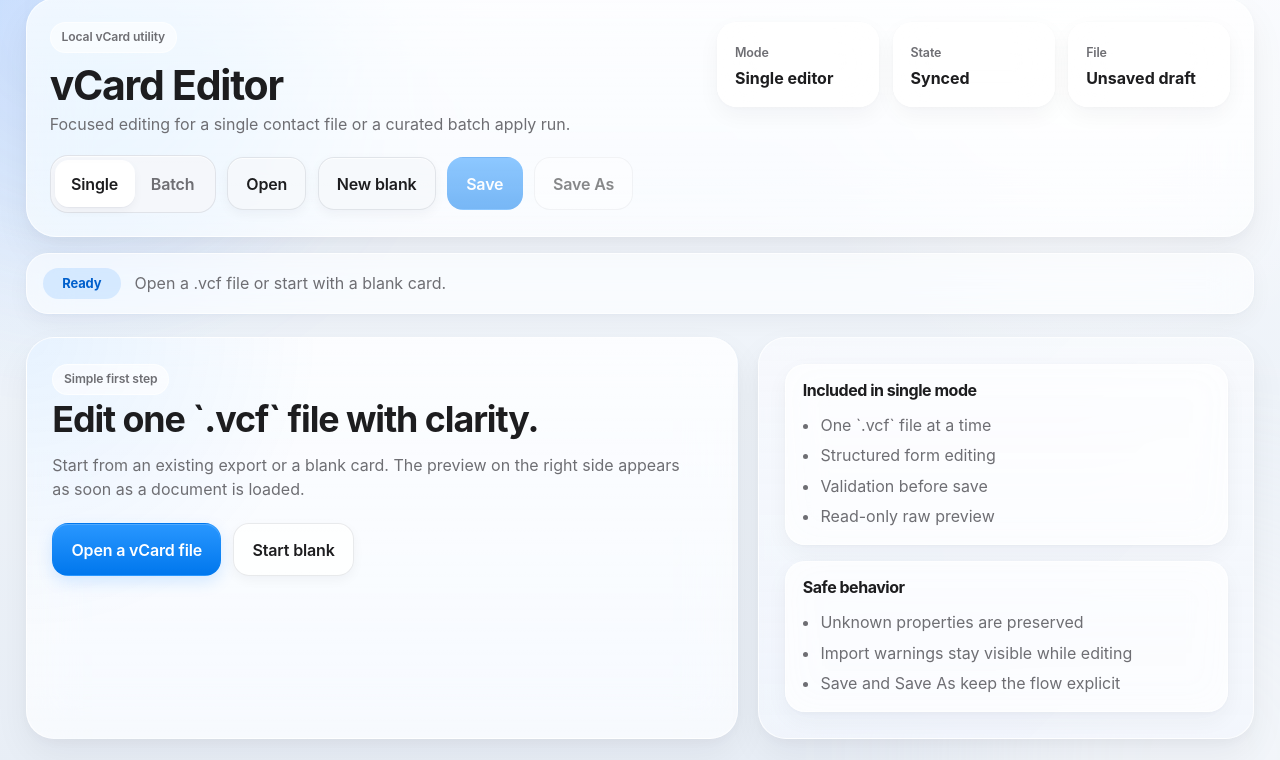
it: App › does not preview metadata-only writes for unchanged batch imports
What coordinates should you click on to do the following:
click the tab "Batch"
I would click on:
 (173, 184)
Its box is [134,160,211,207].
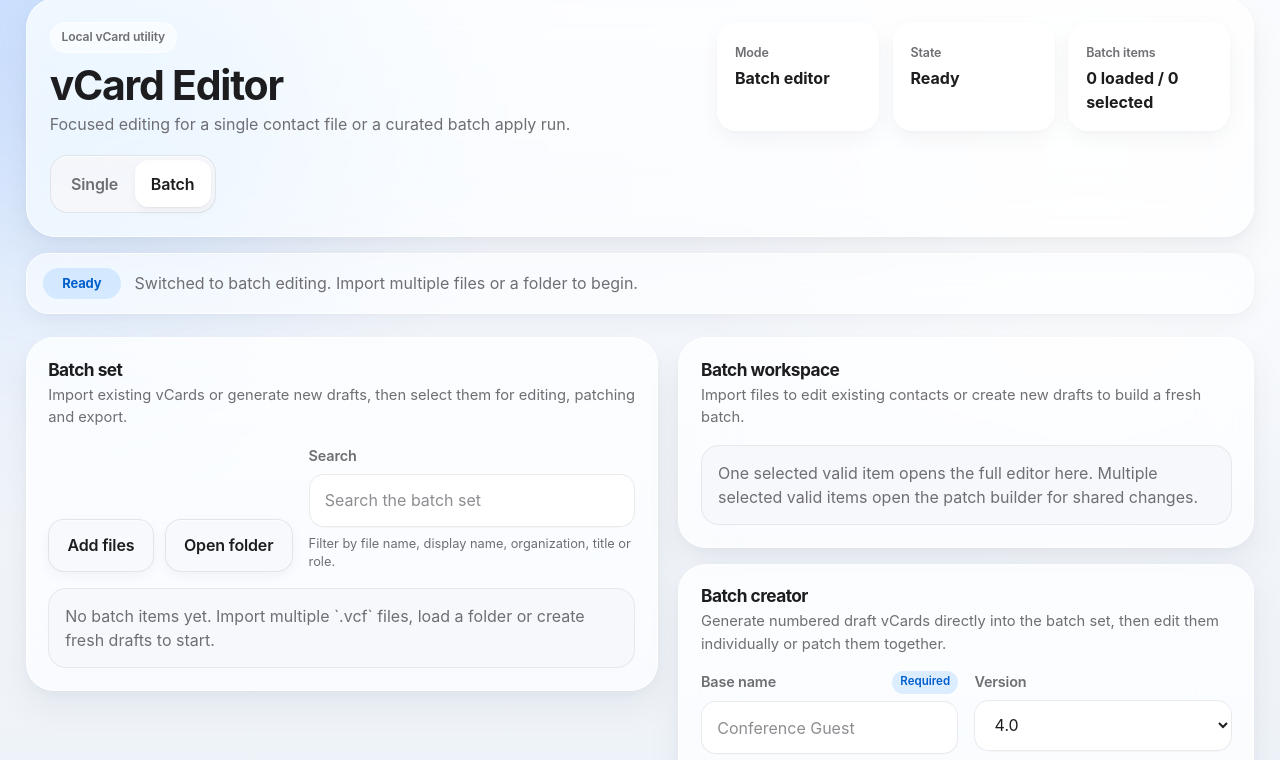
What coordinates should you click on to do the following:
click the button "Add files"
I would click on:
 (101, 545)
Its box is [48,519,154,572].
(page scrolled)
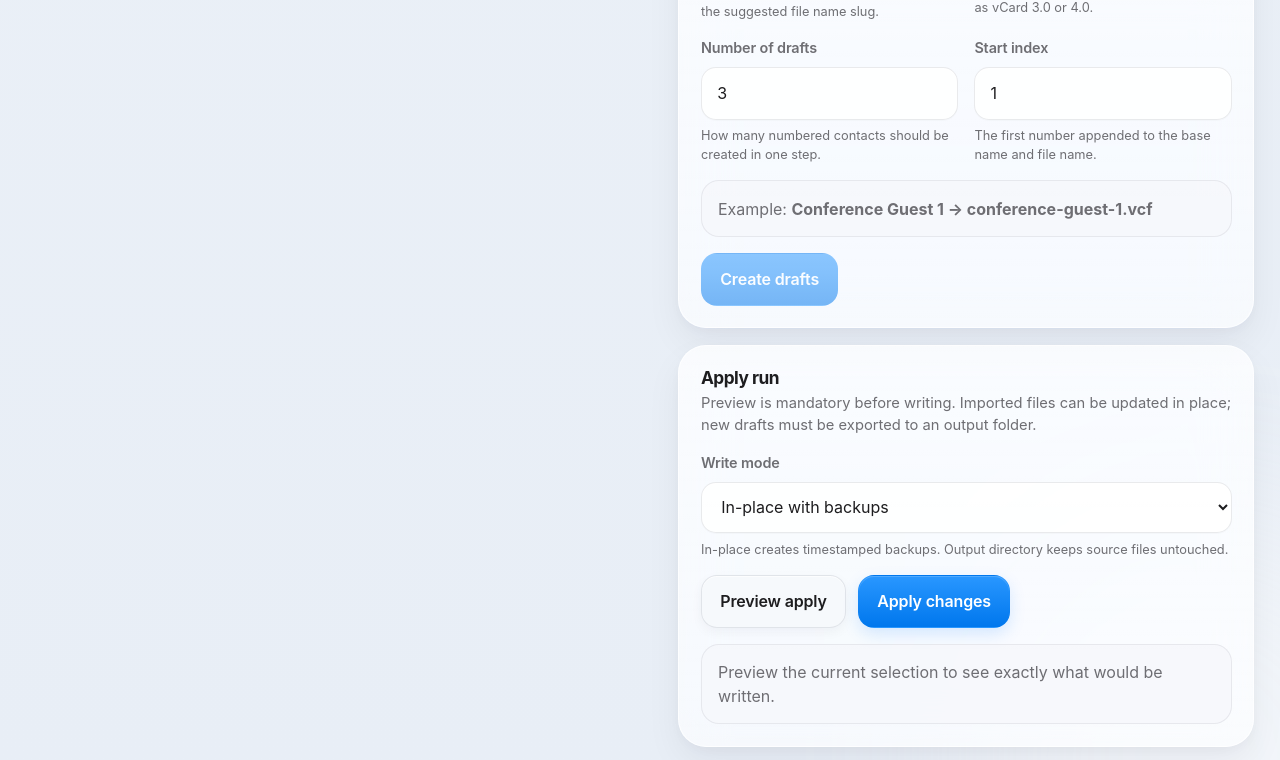
What coordinates should you click on to do the following:
click the button "Preview apply"
I would click on:
 (774, 601)
Its box is [701,575,846,628].
(page scrolled)
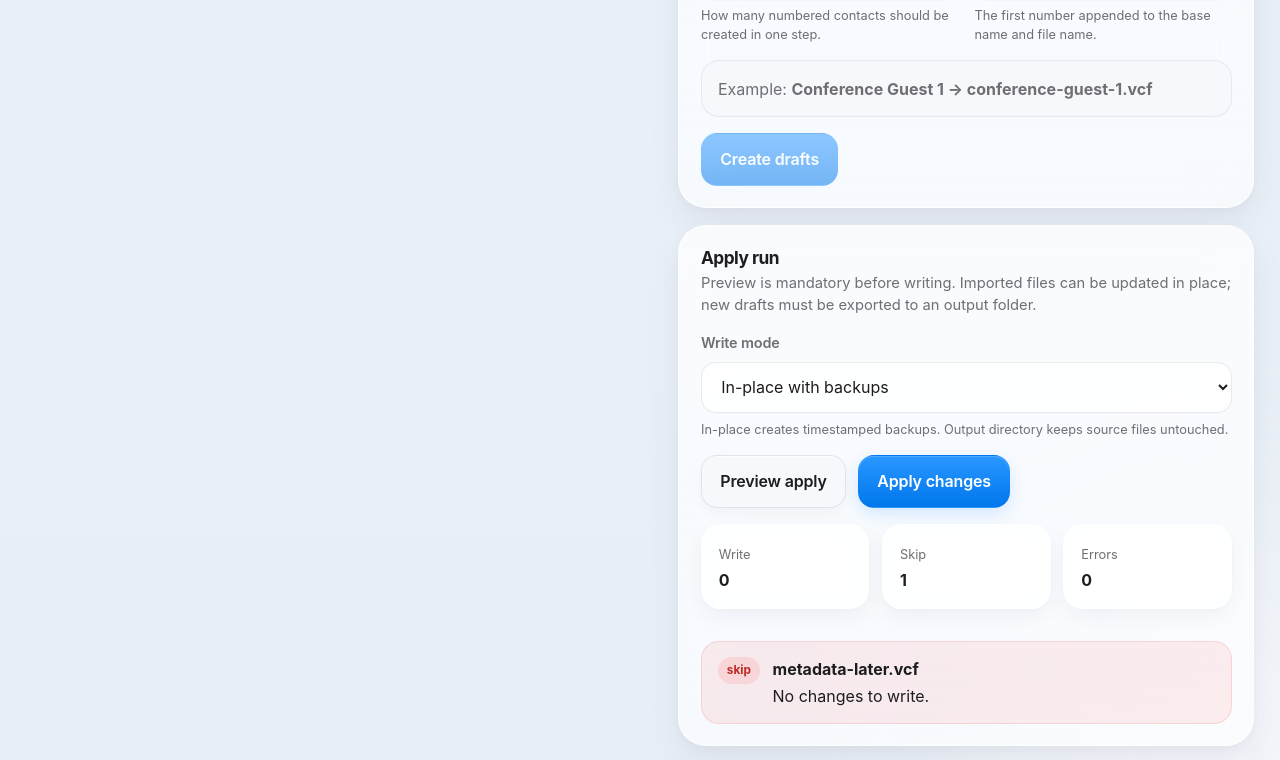
Expected: the text "No changes to write." is shown, [772,684,929,708]
